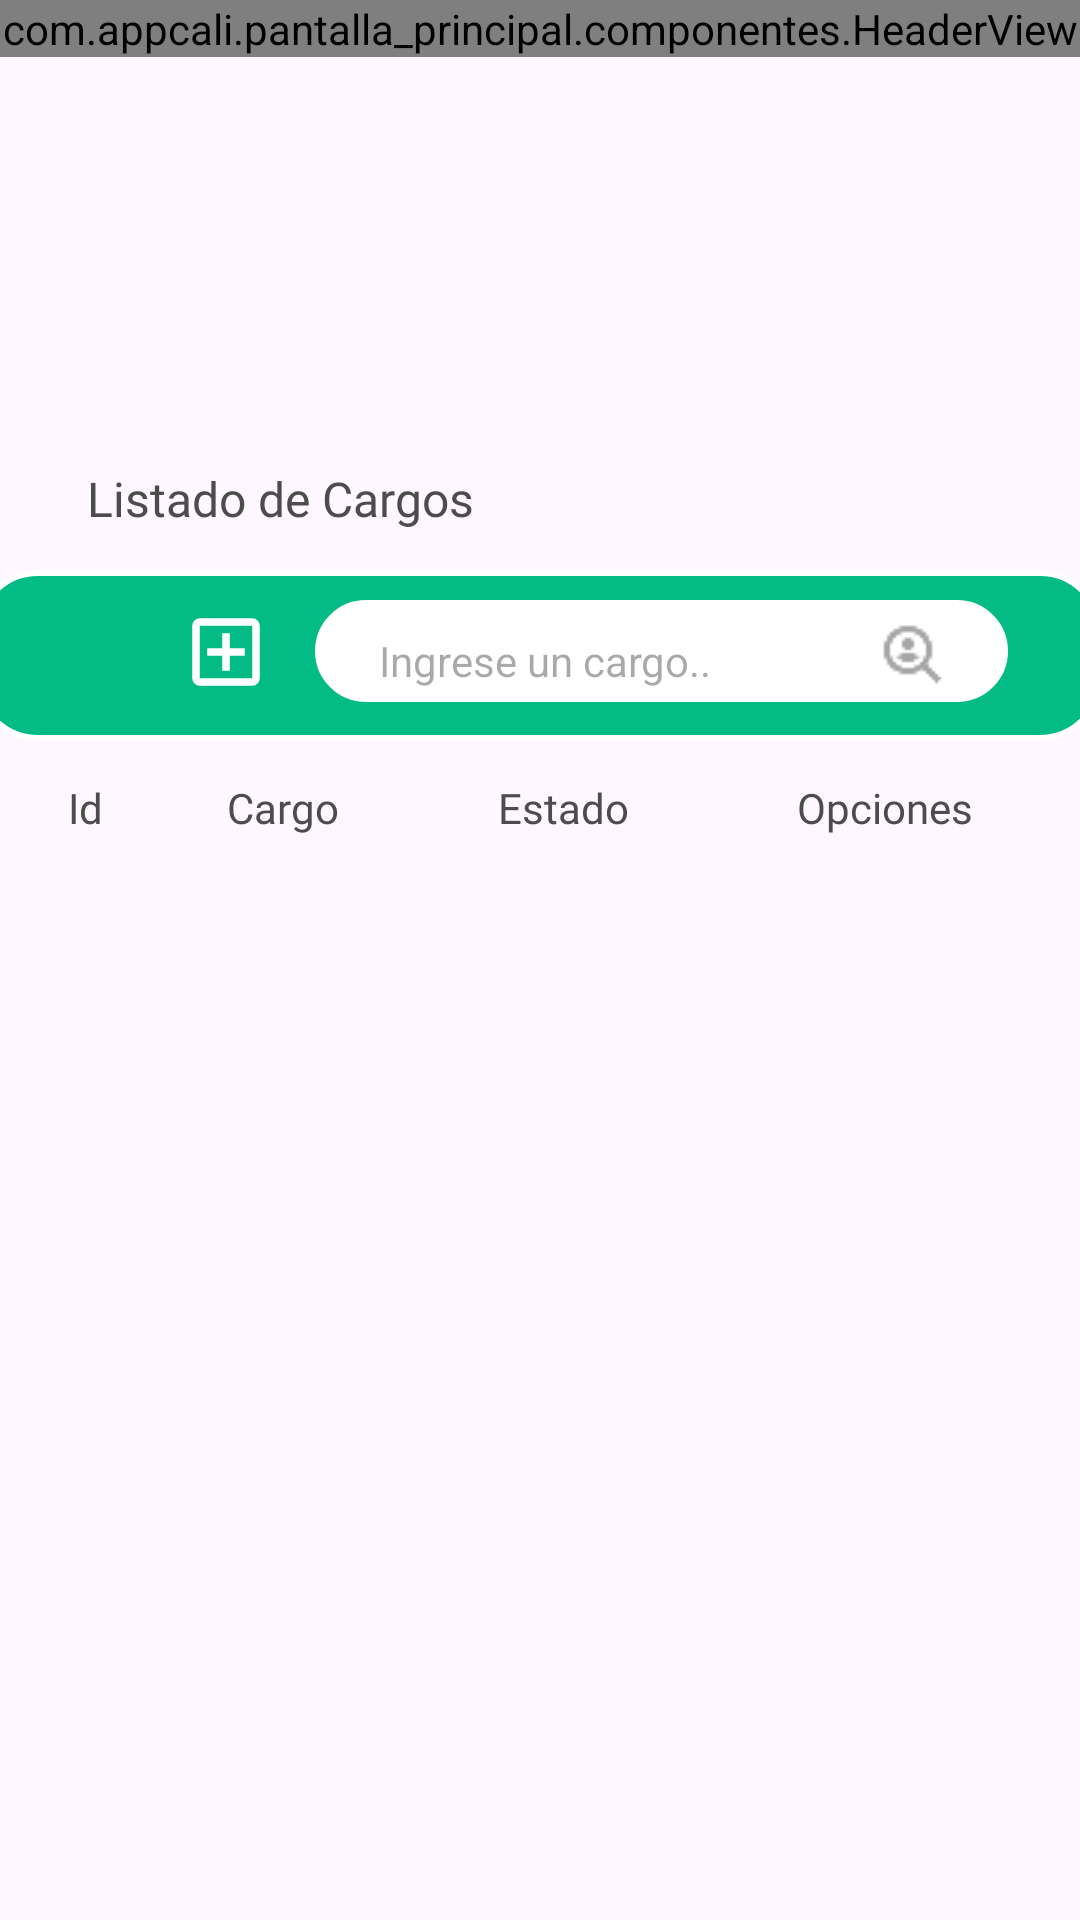

Screen size 1080w x 1920h. Icon name, then its center in pixels as (x=x, y=y):
add box: (x=226, y=652)
lupa: (x=911, y=656)
